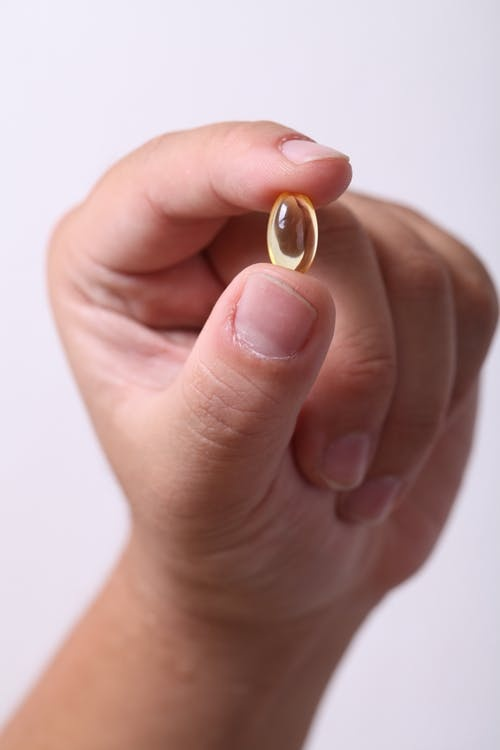pills: (270, 176, 327, 279)
